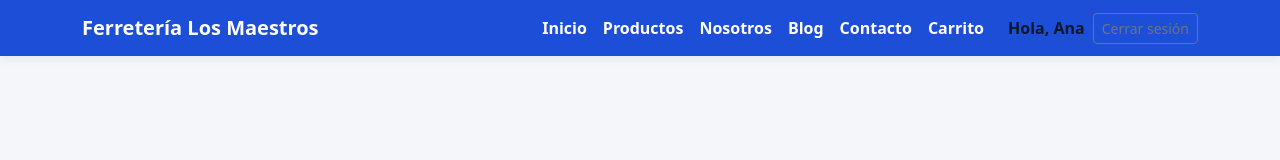
Scenario: Navbar (renderizado condicional según la sesión) › al cerrar sesión borra el usuario guardado y vuelve a mostrar "Iniciar Sesión"
Click the button "Cerrar sesión".
click(1145, 28)  # box [1093,12,1198,44]
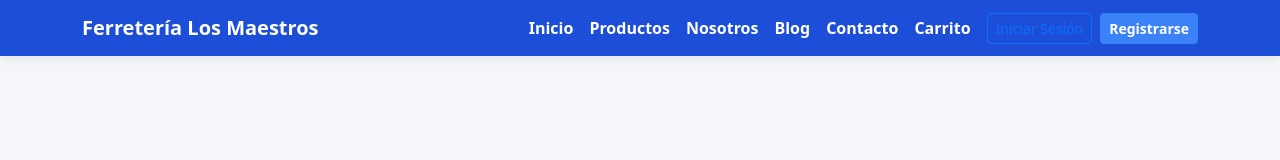
Expected: the button "Iniciar Sesión" is shown, [986,12,1092,44]
